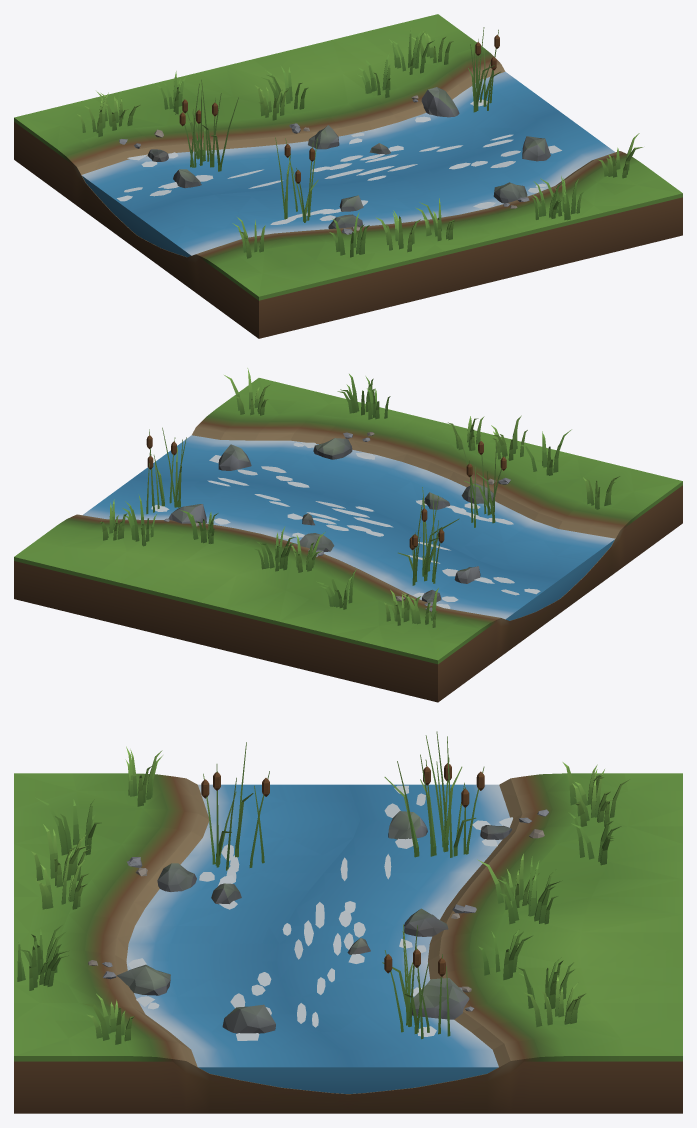
The model's file is river-stream.glb.
The picture shows the model from 3 angles, top to bottom: view 1: azimuth 30°, elevation 25°; view 2: azimuth 150°, elevation 25°; view 3: azimuth 270°, elevation 25°; orthographic projection. The views are drawn at different scales.
Parts seen in each view (by area): view 1: river_stream; view 2: river_stream; view 3: river_stream.
Boxes of the visible parts, x1,y1,x2,y2 form: river_stream: (14,14,682,338); river_stream: (14,368,682,702); river_stream: (14,731,682,1113).
Size of the model in its own units: 4 by 1.08 by 4.
